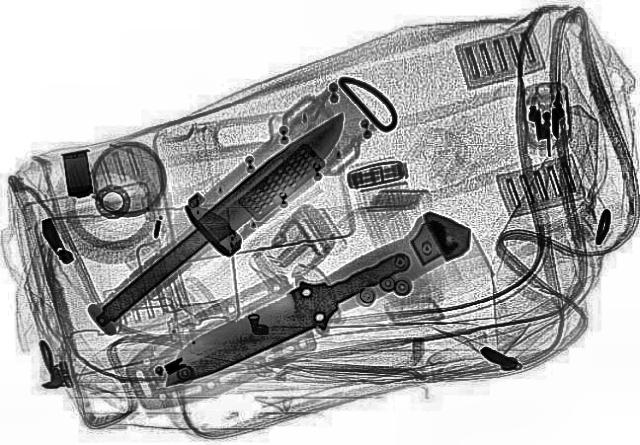Knife: (78, 106, 364, 332), (135, 238, 431, 400)
